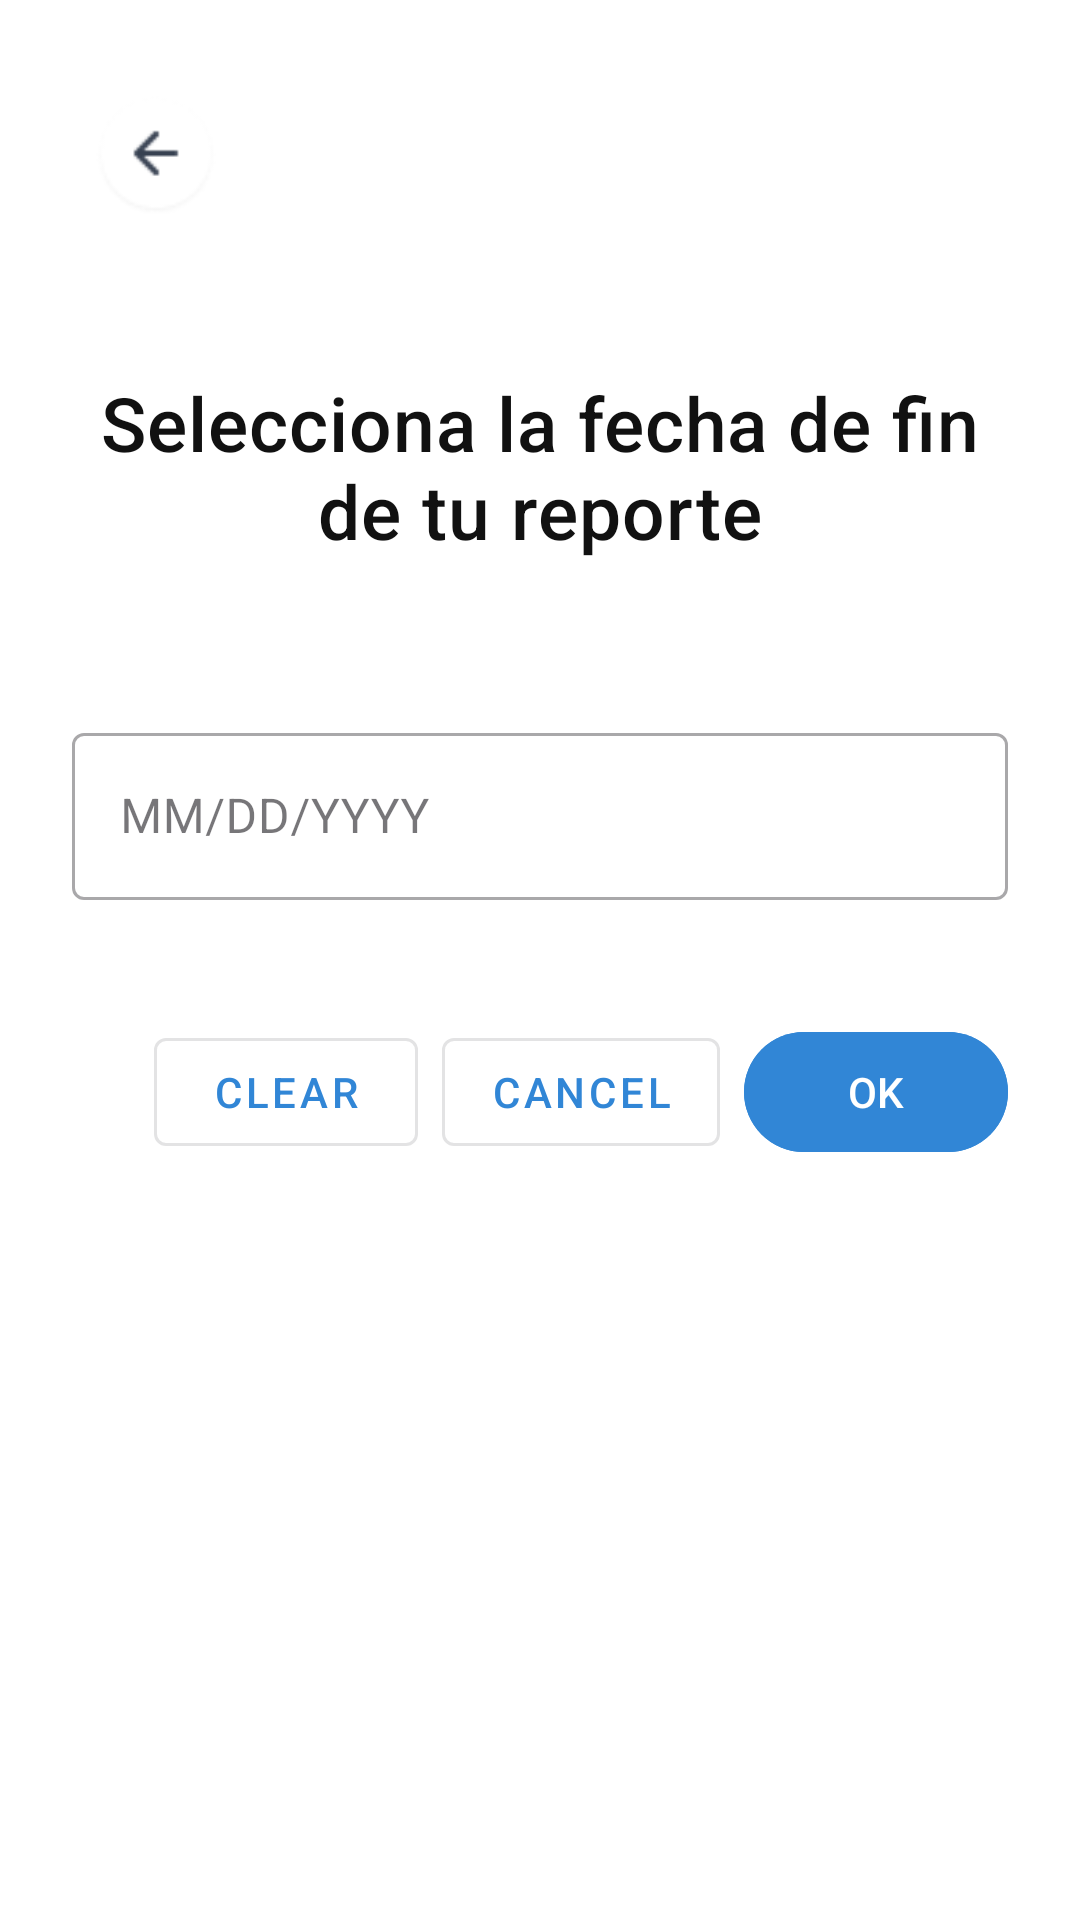

Named icons in this screenshot (1080x1920) and their bounding boxes, (x1, y1, x2, y2):
back: (133, 130, 179, 176)
